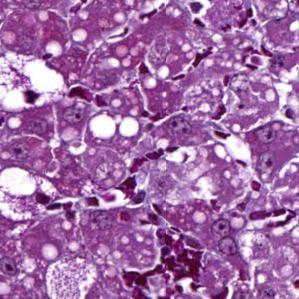ballooning: (3, 49, 69, 116), (4, 163, 61, 225)
